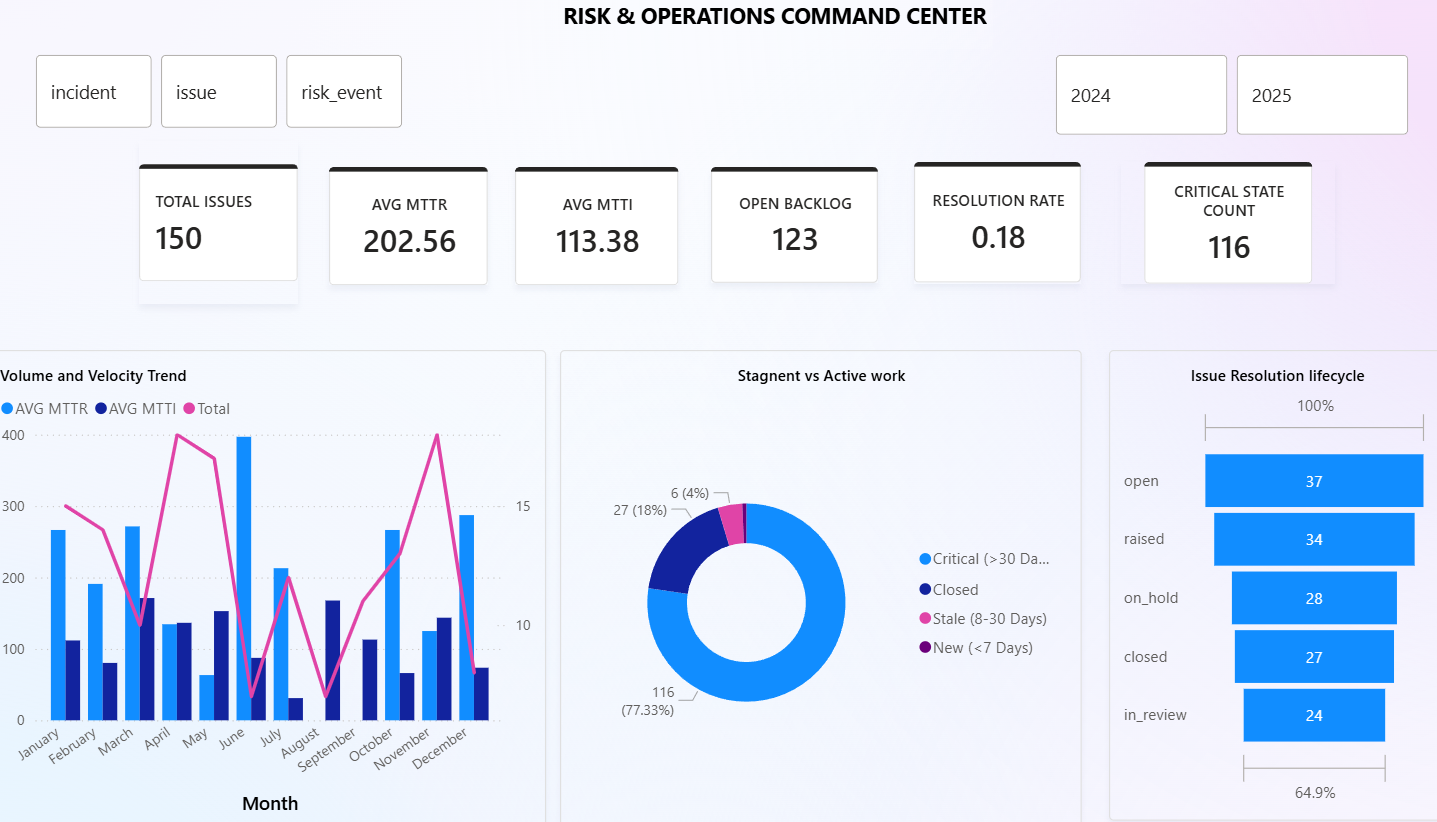

Layout of this report page (visuals, bound fields, positions):
{"tool":"powerbi","page":{"name":"OVERVIEW","canvas":[1280,720],"ordinal":0},"visuals":[{"type":"textbox","box":[493.4,0,376.1,46.6],"z":0},{"type":"cardVisual","title":"t","fields":{"Data":["Calendar.TOTAL ISSUES"]},"box":[132.5,126.3,137,141.5],"z":1000},{"type":"cardVisual","fields":{"Data":["Calendar.OPEN BACKLOG"]},"box":[626,148.7,144.2,100.3],"z":2000},{"type":"cardVisual","fields":{"Data":["Calendar.RESOLUTION RATE"]},"box":[801.5,144.2,144.2,104.8],"z":3000},{"type":"cardVisual","fields":{"Data":["Calendar.AVG MTTI"]},"box":[456.7,148.7,141.5,102.1],"z":4000},{"type":"cardVisual","fields":{"Data":["Calendar.CRITICAL STATE COUNT"]},"box":[979.7,144.2,185.4,105],"z":6000},{"type":"cardVisual","fields":{"Data":["Calendar.AVG MTTR"]},"box":[296.4,148.7,137,102.1],"z":7000},{"type":"lineClusteredColumnComboChart","title":"Volume and Velocity Trend","fields":{"Category":["fct_Issues.CreatedDate.Variation.Date Hierarchy.Month","fct_Issues.CreatedDate.Variation.Date Hierarchy.Day"],"Y2":["CountNonNull(fct_Issues.NaturalKey)"],"Y":["Calendar.AVG MTTR","Calendar.AVG MTTI"]},"box":[0,306.3,483.6,413.7],"z":8000},{"type":"funnel","title":"Issue Resolution lifecycle","fields":{"Category":["fct_Issues.CurrentStatus"],"Y":["Calendar.TOTAL ISSUES"]},"box":[969.9,306.3,289.3,405.7],"z":9000},{"type":"donutChart","title":"Stagnent vs Active work","fields":{"Category":["fct_Issues.AgeBucket"],"Y":["CountNonNull(fct_Issues.IsOpen)"]},"box":[496.1,306.3,449.6,413.7],"z":10000},{"type":"advancedSlicerVisual","fields":{"Values":["fct_Issues.Type"]},"box":[38.5,46.6,326.9,73.4],"z":12000},{"type":"advancedSlicerVisual","fields":{"Values":["fct_Issues.CreatedDate.Variation.Date Hierarchy.Year"]},"box":[918.8,46.6,315.2,79.7],"z":13000}]}

Visuals, with their boxes in screenshot pixels (x1, y1, x2, y2), scaled from the page's 1280x720 canvas onto the 1437x822 screenshot:
textbox: (554, 0, 976, 53)
"t" cardVisual: (149, 144, 303, 306)
cardVisual - Calendar.OPEN BACKLOG: (703, 170, 865, 284)
cardVisual - Calendar.RESOLUTION RATE: (900, 165, 1062, 284)
cardVisual - Calendar.AVG MTTI: (513, 170, 672, 286)
cardVisual - Calendar.CRITICAL STATE COUNT: (1100, 165, 1308, 285)
cardVisual - Calendar.AVG MTTR: (333, 170, 487, 286)
"Volume and Velocity Trend" lineClusteredColumnComboChart: (0, 350, 543, 821)
"Issue Resolution lifecycle" funnel: (1089, 350, 1414, 813)
"Stagnent vs Active work" donutChart: (557, 350, 1062, 821)
advancedSlicerVisual - fct_Issues.Type: (43, 53, 410, 137)
advancedSlicerVisual - fct_Issues.CreatedDate.Variation.Date Hierarchy.Year: (1031, 53, 1385, 144)
